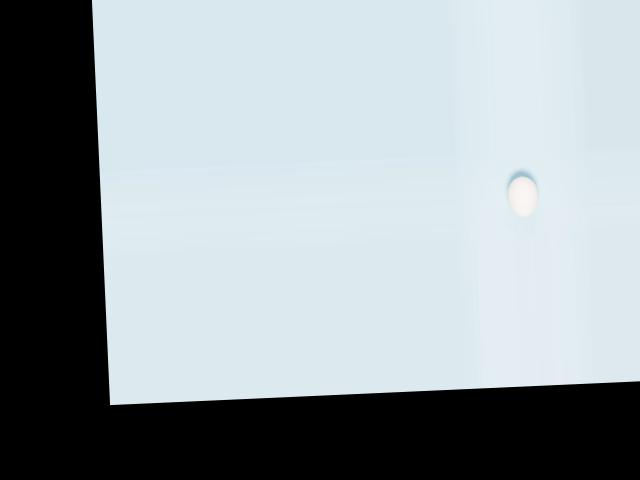egg: (506, 175, 539, 217)
